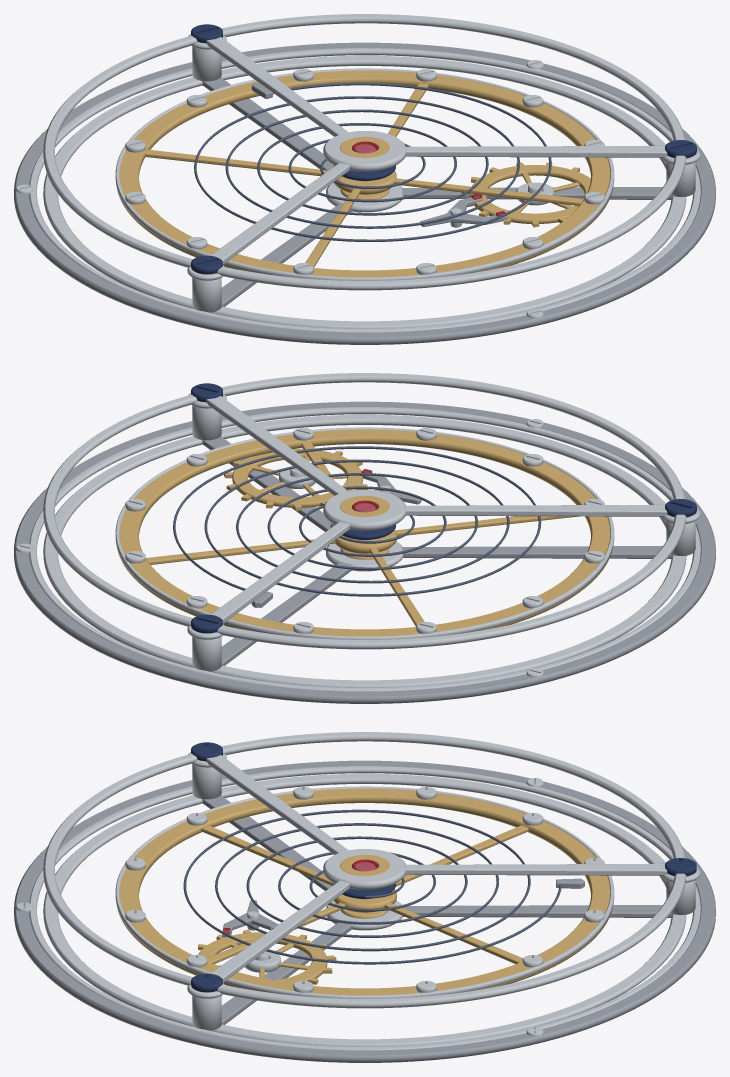
The model's file is aww2k26-tourbillon.glb.
3 views of the same model, one above another, from view 1: azimuth 30°, elevation 25°; view 2: azimuth 150°, elevation 25°; view 3: azimuth 270°, elevation 25° (orthographic).
Visible parts, largest first — view 1: tb_fixed_seat_ring, tb_lower_cage_ring, tb_upper_cage_ring, tb_balance_rim, tb_fixed_inner_chamfer, tb_hairspring_spiral, tb_balance_highlight, tb_upper_cage_arm_2, tb_escape_rim, tb_upper_cage_arm_0, tb_upper_cage_arm_1, tb_upper_cage_hub (+14 smaller); view 2: tb_fixed_seat_ring, tb_lower_cage_ring, tb_upper_cage_ring, tb_balance_rim, tb_fixed_inner_chamfer, tb_hairspring_spiral, tb_balance_highlight, tb_upper_cage_arm_1, tb_lower_cage_arm_1, tb_upper_cage_arm_2, tb_escape_rim, tb_upper_cage_arm_0 (+12 smaller); view 3: tb_fixed_seat_ring, tb_lower_cage_ring, tb_upper_cage_ring, tb_balance_rim, tb_fixed_inner_chamfer, tb_hairspring_spiral, tb_balance_highlight, tb_upper_cage_arm_0, tb_lower_cage_arm_0, tb_upper_cage_arm_1, tb_upper_cage_arm_2, tb_upper_cage_hub (+14 smaller).
Part boxes in pixels (x1,y1,x2,y2): tb_fixed_seat_ring: [14, 42, 715, 344]; tb_lower_cage_ring: [43, 55, 686, 328]; tb_upper_cage_ring: [43, 14, 686, 290]; tb_balance_rim: [117, 70, 612, 277]; tb_fixed_inner_chamfer: [29, 48, 700, 332]; tb_hairspring_spiral: [194, 82, 551, 241]; tb_balance_highlight: [115, 68, 614, 280]; tb_upper_cage_arm_2: [406, 145, 668, 157]; tb_escape_rim: [470, 165, 590, 223]; tb_upper_cage_arm_0: [206, 37, 348, 136]; tb_upper_cage_arm_1: [210, 162, 349, 264]; tb_upper_cage_hub: [323, 131, 405, 171]; tb_fixed_seat_ring: [14, 401, 715, 703]; tb_lower_cage_ring: [43, 414, 686, 687]; tb_upper_cage_ring: [43, 373, 686, 649]; tb_balance_rim: [117, 429, 612, 636]; tb_fixed_inner_chamfer: [29, 407, 700, 691]; tb_hairspring_spiral: [173, 446, 541, 596]; tb_balance_highlight: [115, 427, 614, 639]; tb_upper_cage_arm_1: [406, 504, 668, 516]; tb_lower_cage_arm_1: [402, 546, 672, 558]; tb_upper_cage_arm_2: [206, 396, 348, 495]; tb_escape_rim: [232, 448, 362, 507]; tb_upper_cage_arm_0: [210, 521, 349, 623]; tb_fixed_seat_ring: [14, 760, 715, 1062]; tb_lower_cage_ring: [43, 773, 686, 1046]; tb_upper_cage_ring: [43, 732, 686, 1008]; tb_balance_rim: [117, 788, 612, 995]; tb_fixed_inner_chamfer: [29, 766, 700, 1050]; tb_hairspring_spiral: [183, 809, 561, 964]; tb_balance_highlight: [115, 786, 614, 998]; tb_upper_cage_arm_0: [406, 863, 668, 875]; tb_lower_cage_arm_0: [402, 905, 671, 917]; tb_upper_cage_arm_1: [206, 755, 348, 854]; tb_upper_cage_arm_2: [210, 880, 349, 982]; tb_upper_cage_hub: [323, 849, 405, 889].
Size of the model in its own units: 8.6 by 0.695 by 8.6.
